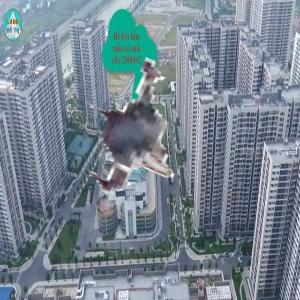drone: (41, 49, 216, 224)
